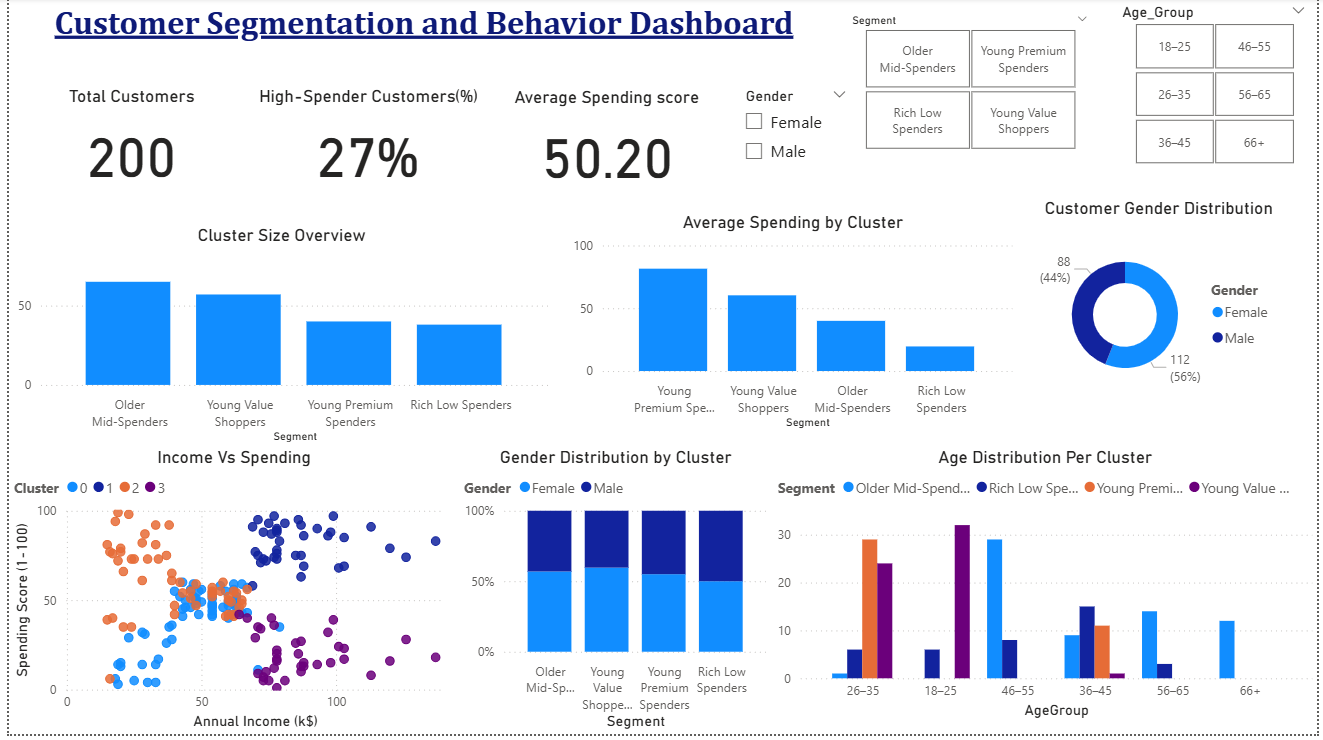

What the dashboard file says about the page in this screenshot:
{"tool":"powerbi","page":{"name":"Page 1","canvas":[1280,720],"ordinal":0},"visuals":[{"type":"columnChart","title":"Cluster Size Overview","fields":{"Category":["ClusterInsights.Segment"],"Y":["CountNonNull(final_customer_segments.CustomerID)"]},"box":[0,220.9,533.8,218.2],"z":0},{"type":"clusteredColumnChart","title":"Average Spending by Cluster","fields":{"Category":["ClusterInsights.Segment"],"Y":["Avg(final_customer_segments.Spending Score (1-100))"]},"box":[546.1,208.6,440.5,216.8],"z":1000},{"type":"scatterChart","title":"Income Vs Spending","fields":{"X":["final_customer_segments.Annual Income (k$)"],"Y":["final_customer_segments.Spending Score (1-100)"],"Series":["final_customer_segments.Cluster"]},"box":[0,439.1,440.5,281.3],"z":2000},{"type":"hundredPercentStackedColumnChart","title":"Gender Distribution by Cluster","fields":{"Y":["CountNonNull(final_customer_segments.CustomerID)"],"Category":["ClusterInsights.Segment"],"Series":["final_customer_segments.Gender"]},"box":[440.2,439,306.9,281.3],"z":3000},{"type":"donutChart","title":"Customer Gender Distribution","fields":{"Category":["final_customer_segments.Gender"],"Y":["CountNonNull(final_customer_segments.CustomerID)"]},"box":[1003.1,196.2,244.3,209.9],"z":4000},{"type":"clusteredColumnChart","title":"Age Distribution Per Cluster","fields":{"Y":["CountNonNull(final_customer_segments.CustomerID)"],"Series":["ClusterInsights.Segment"],"Category":["final_customer_segments.AgeGroup"]},"box":[747.2,439,533.2,270.2],"z":5000},{"type":"card","title":"Total Customers","fields":{"Values":["Count(final_customer_segments.CustomerID)"]},"box":[0,85.1,240.1,108.4],"z":6000},{"type":"card","title":"High-Spender Customers(%)","fields":{"Values":["final_customer_segments.high_spenders_percent"]},"box":[240.1,85.1,223.7,108.4],"z":7000},{"type":"card","title":"Average Spending score","fields":{"Values":["final_customer_segments.avg_spending_score"]},"box":[474.8,86.4,220.9,107],"z":8000},{"type":"slicer","fields":{"Values":["ClusterInsights.Segment"]},"box":[812,9.8,255.6,144.3],"z":9000},{"type":"slicer","fields":{"Values":["final_customer_segments.Gender"]},"box":[708,81.9,123.5,86.8],"z":10000},{"type":"slicer","fields":{"Values":["final_customer_segments.AgeGroup"]},"box":[1075.8,0,204.5,168.8],"z":11000},{"type":"textbox","box":[0,0,812,64.8],"z":12000}]}

Visuals, with their boxes in screenshot pixels (x1, y1, x2, y2), scaled from the page's 1280x720 canvas onto the 1323x740 screenshot:
"Cluster Size Overview" columnChart: box=[0, 227, 552, 451]
"Average Spending by Cluster" clusteredColumnChart: box=[564, 214, 1020, 437]
"Income Vs Spending" scatterChart: box=[0, 451, 455, 739]
"Gender Distribution by Cluster" hundredPercentStackedColumnChart: box=[455, 451, 772, 739]
"Customer Gender Distribution" donutChart: box=[1037, 202, 1289, 417]
"Age Distribution Per Cluster" clusteredColumnChart: box=[772, 451, 1322, 729]
"Total Customers" card: box=[0, 87, 248, 199]
"High-Spender Customers(%)" card: box=[248, 87, 479, 199]
"Average Spending score" card: box=[491, 89, 719, 199]
slicer - ClusterInsights.Segment: box=[839, 10, 1103, 158]
slicer - final_customer_segments.Gender: box=[732, 84, 859, 173]
slicer - final_customer_segments.AgeGroup: box=[1112, 0, 1322, 173]
textbox: box=[0, 0, 839, 67]
